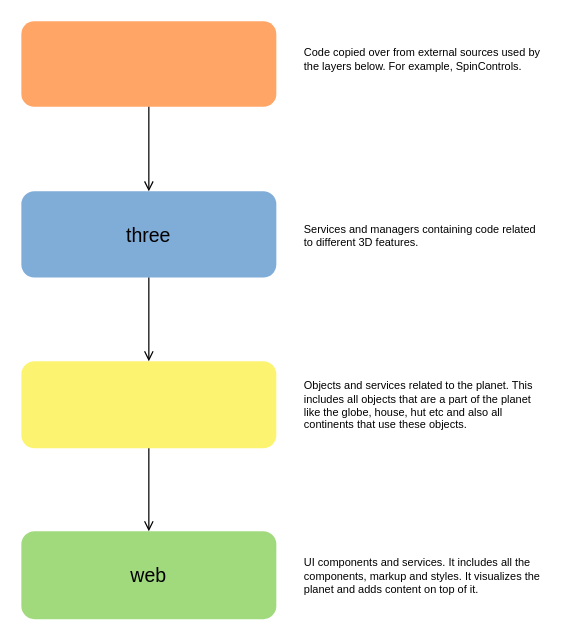
This 567x639 diagram has some shape labels left out. Each missing label, with the centre of its shape:
"external" goes at pixel 148 63.
"planet" goes at pixel 148 404.
